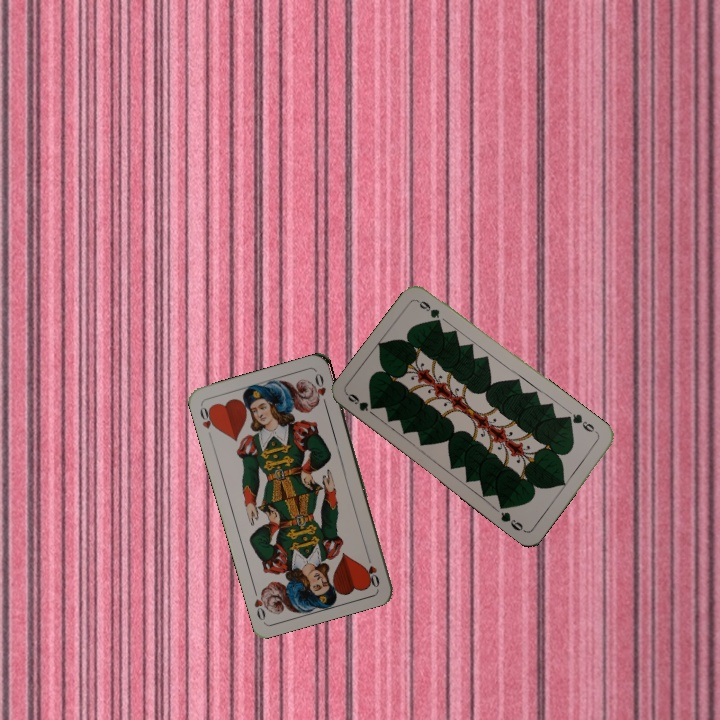G9: (564, 409, 601, 437), (343, 389, 378, 414)
HO: (196, 402, 219, 441), (363, 550, 382, 590)
